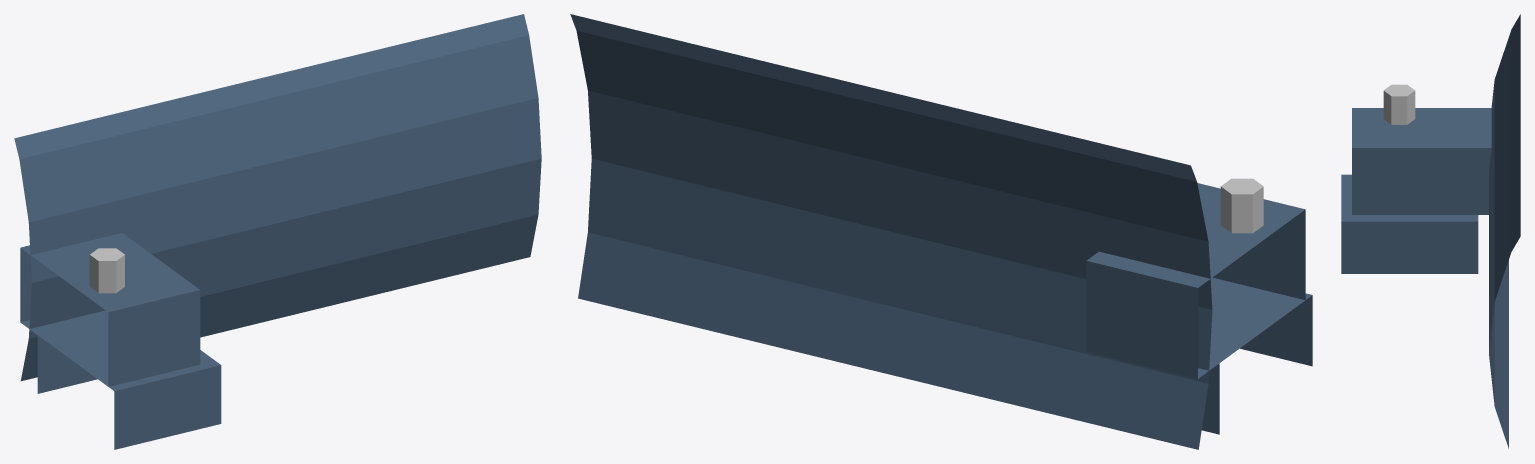
File: cell_46.obj
The picture shows the model from 3 angles, left to right: view 1: azimuth 30°, elevation 25°; view 2: azimuth 150°, elevation 25°; view 3: azimuth 270°, elevation 25°; orthographic projection. The views are drawn at different scales.
Size of the model in its own units: 1 by 0.4468 by 0.34.
